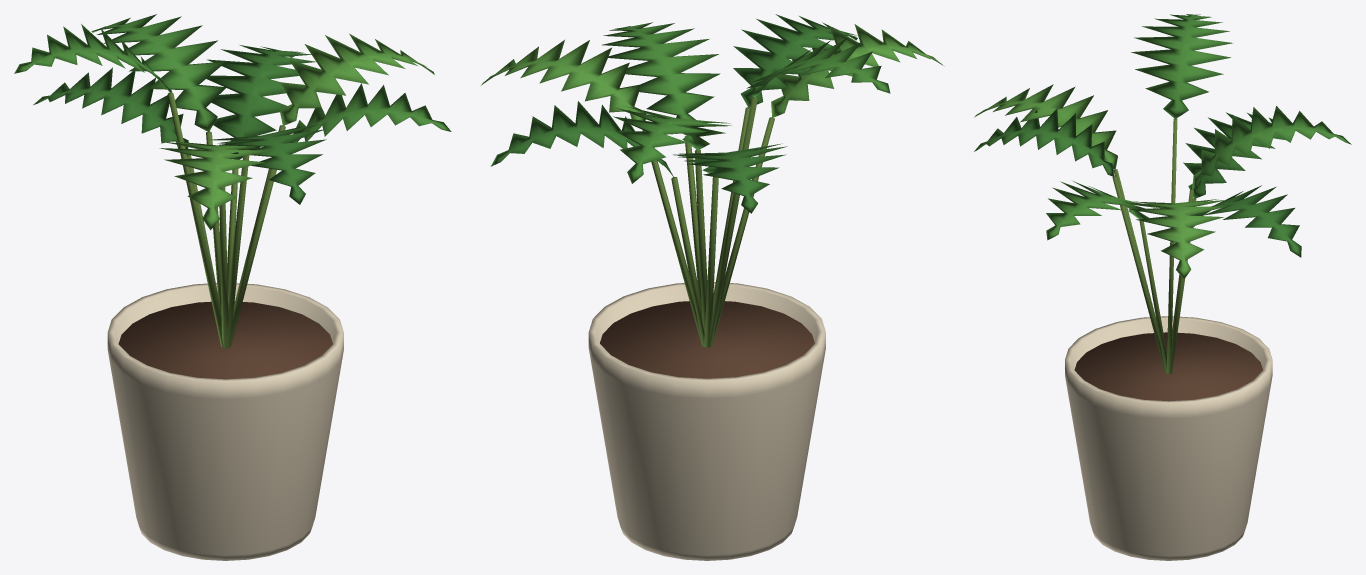
Rendered from palm.glb.
3 renders of one model, left to right at view 1: azimuth 30°, elevation 25°; view 2: azimuth 150°, elevation 25°; view 3: azimuth 270°, elevation 25°, orthographic. The views are drawn at different scales.
Parts seen in each view (by area): view 1: palm; view 2: palm; view 3: palm.
Boxes of the visible parts, x1,y1,x2,y2 form: palm: (14,14,451,560); palm: (481,14,944,560); palm: (974,14,1351,560).
Size of the model in its own units: 0.7704 by 0.8928 by 0.6925.
